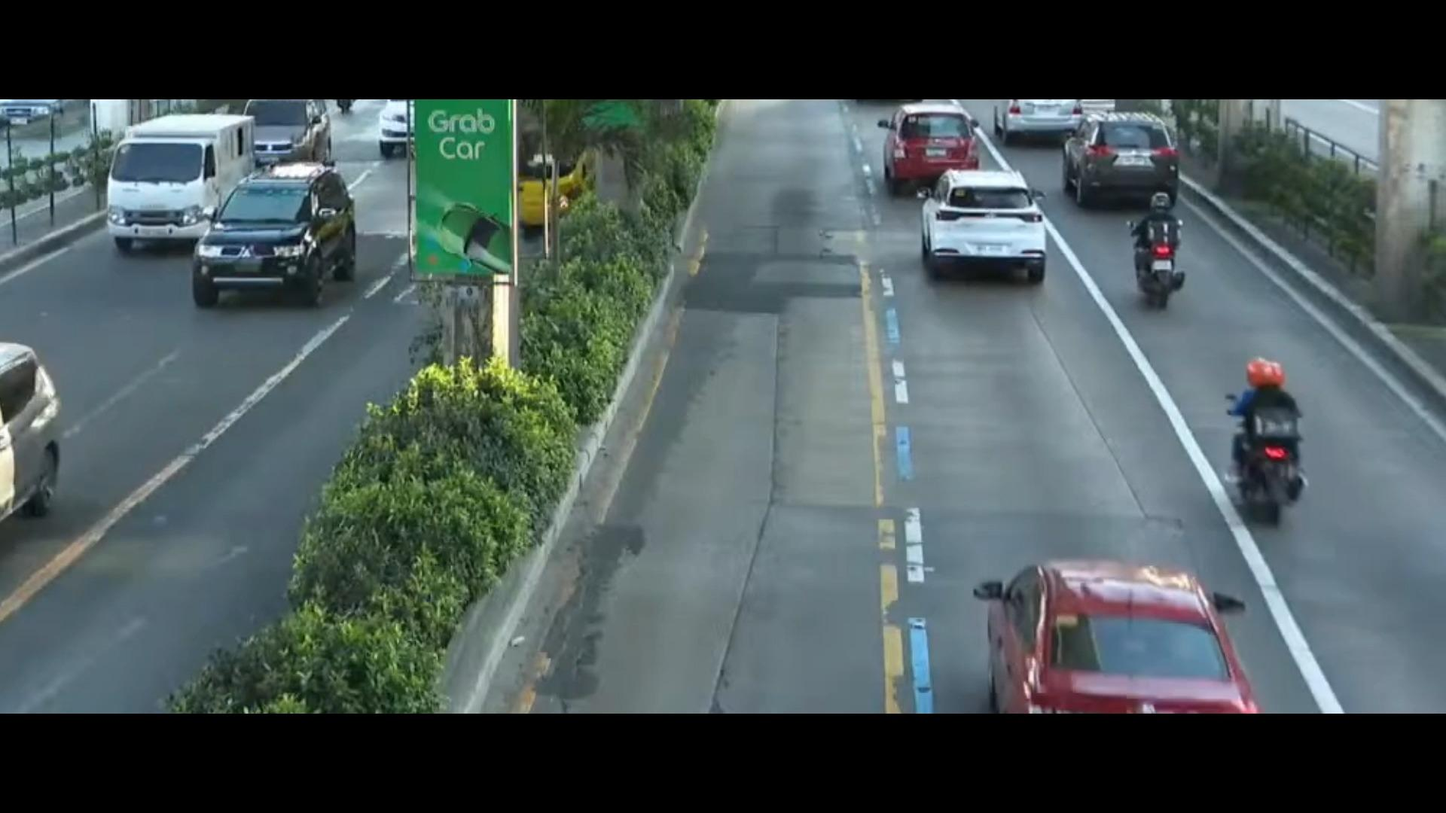Motorcycle: (1178, 339, 1346, 531), (1116, 199, 1203, 330)
Multicab: (85, 103, 269, 262)
SUV: (177, 159, 372, 322), (905, 164, 1055, 298), (1058, 101, 1185, 218), (867, 99, 977, 196), (244, 93, 349, 163)
Sedan: (952, 525, 1265, 717)
